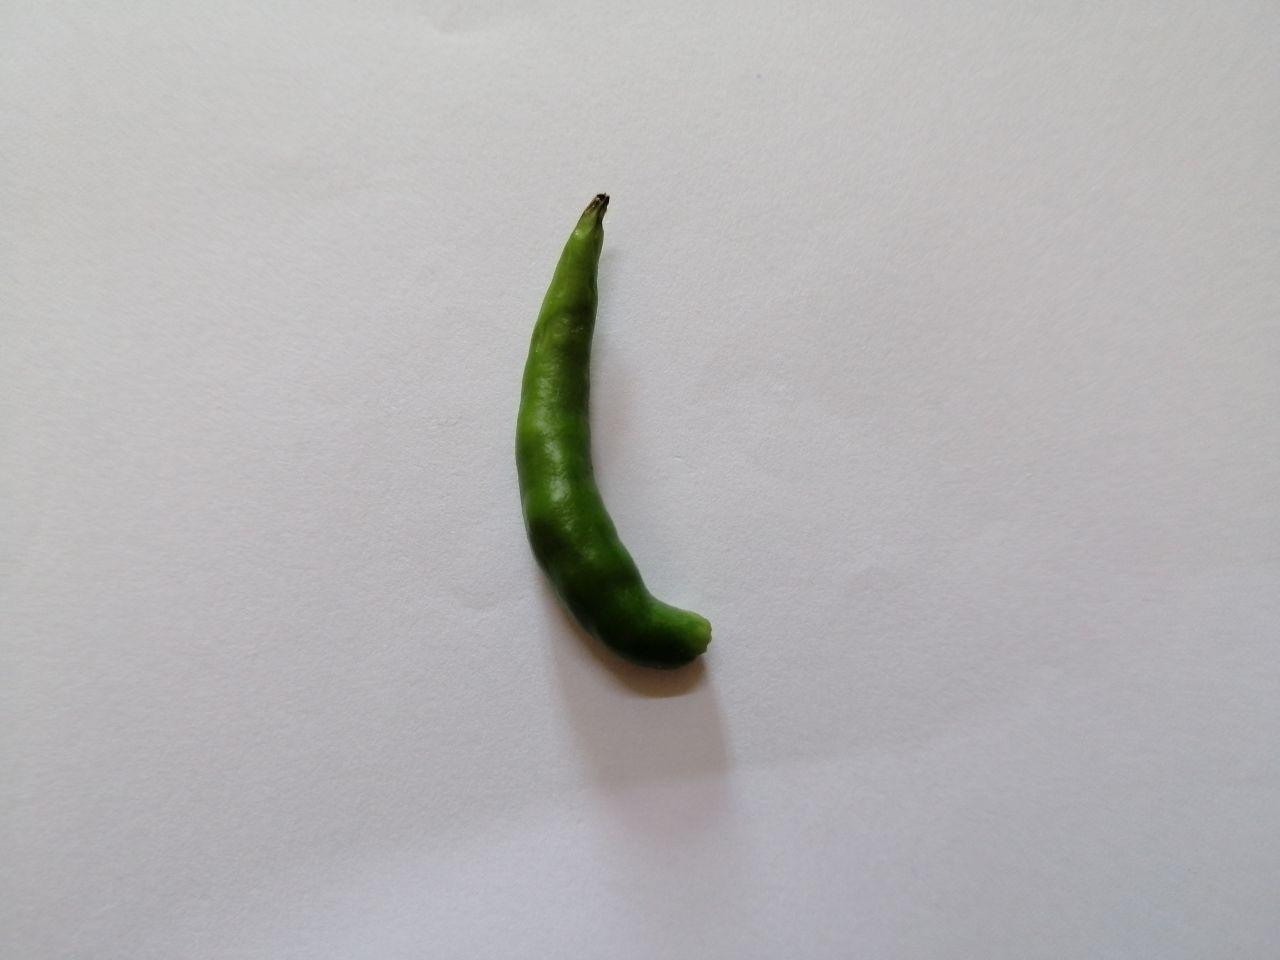lada hijau: (490, 168, 730, 706)
